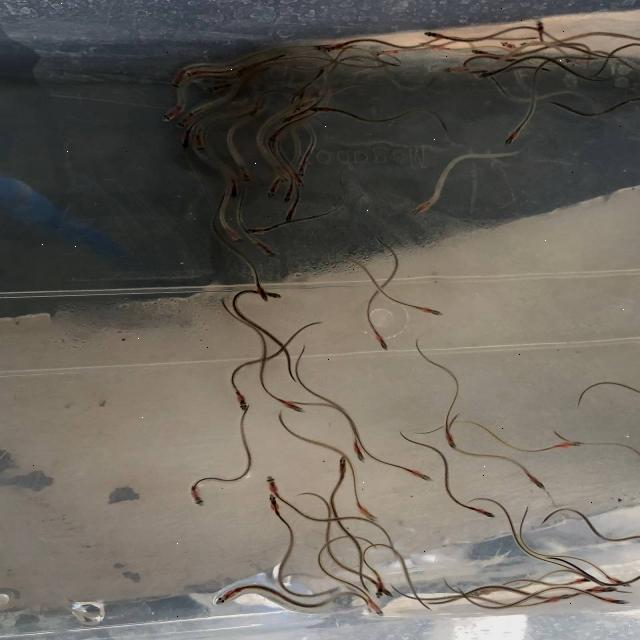glass_eel: (228, 160, 254, 186), (405, 466, 439, 484), (222, 222, 247, 246), (277, 396, 311, 413), (232, 388, 254, 412), (600, 572, 632, 588), (247, 286, 283, 300), (358, 505, 386, 523), (372, 578, 396, 598), (409, 198, 435, 216), (252, 242, 278, 260), (470, 584, 503, 598), (561, 576, 599, 588), (582, 585, 623, 596), (415, 40, 447, 54), (542, 592, 574, 606), (442, 430, 464, 450), (200, 80, 230, 94), (261, 495, 281, 516), (526, 472, 550, 489), (594, 596, 628, 608), (366, 598, 386, 618), (186, 484, 204, 506), (158, 108, 182, 124), (214, 590, 237, 606), (242, 225, 270, 238), (418, 304, 444, 318), (232, 64, 258, 78), (419, 30, 452, 41), (172, 112, 190, 132), (352, 444, 370, 464), (264, 474, 282, 494), (373, 330, 389, 352), (166, 72, 183, 92), (288, 175, 308, 192), (263, 178, 280, 198), (308, 105, 336, 117), (470, 506, 494, 520), (502, 127, 520, 145), (278, 189, 298, 205), (252, 288, 272, 304), (185, 68, 211, 80), (335, 456, 349, 478), (374, 578, 388, 600), (293, 158, 309, 177), (556, 440, 584, 450), (324, 42, 354, 51), (192, 136, 207, 154), (536, 16, 548, 38), (278, 112, 302, 123), (500, 41, 520, 54), (480, 68, 501, 80), (266, 130, 280, 148), (373, 46, 397, 56), (178, 132, 190, 152), (468, 48, 493, 57), (283, 208, 295, 226), (442, 67, 468, 75), (562, 53, 576, 65)
